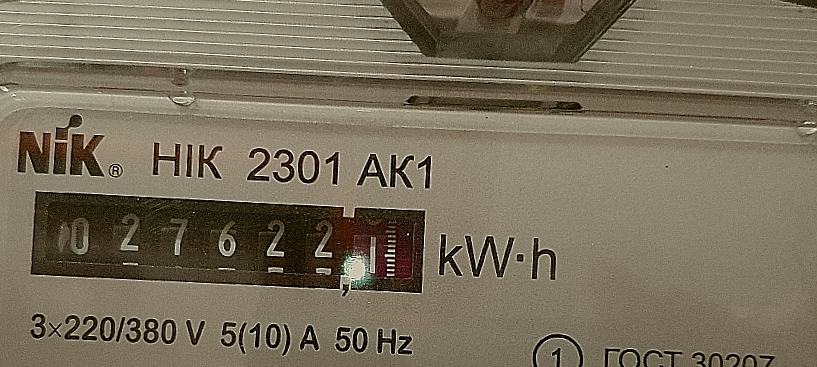0: (66, 213, 93, 257)
1: (363, 232, 381, 276)
2: (261, 216, 288, 259), (116, 210, 142, 254), (311, 217, 336, 260)
6: (214, 216, 239, 258)
7: (165, 215, 190, 259)
screen: (17, 176, 440, 305)
